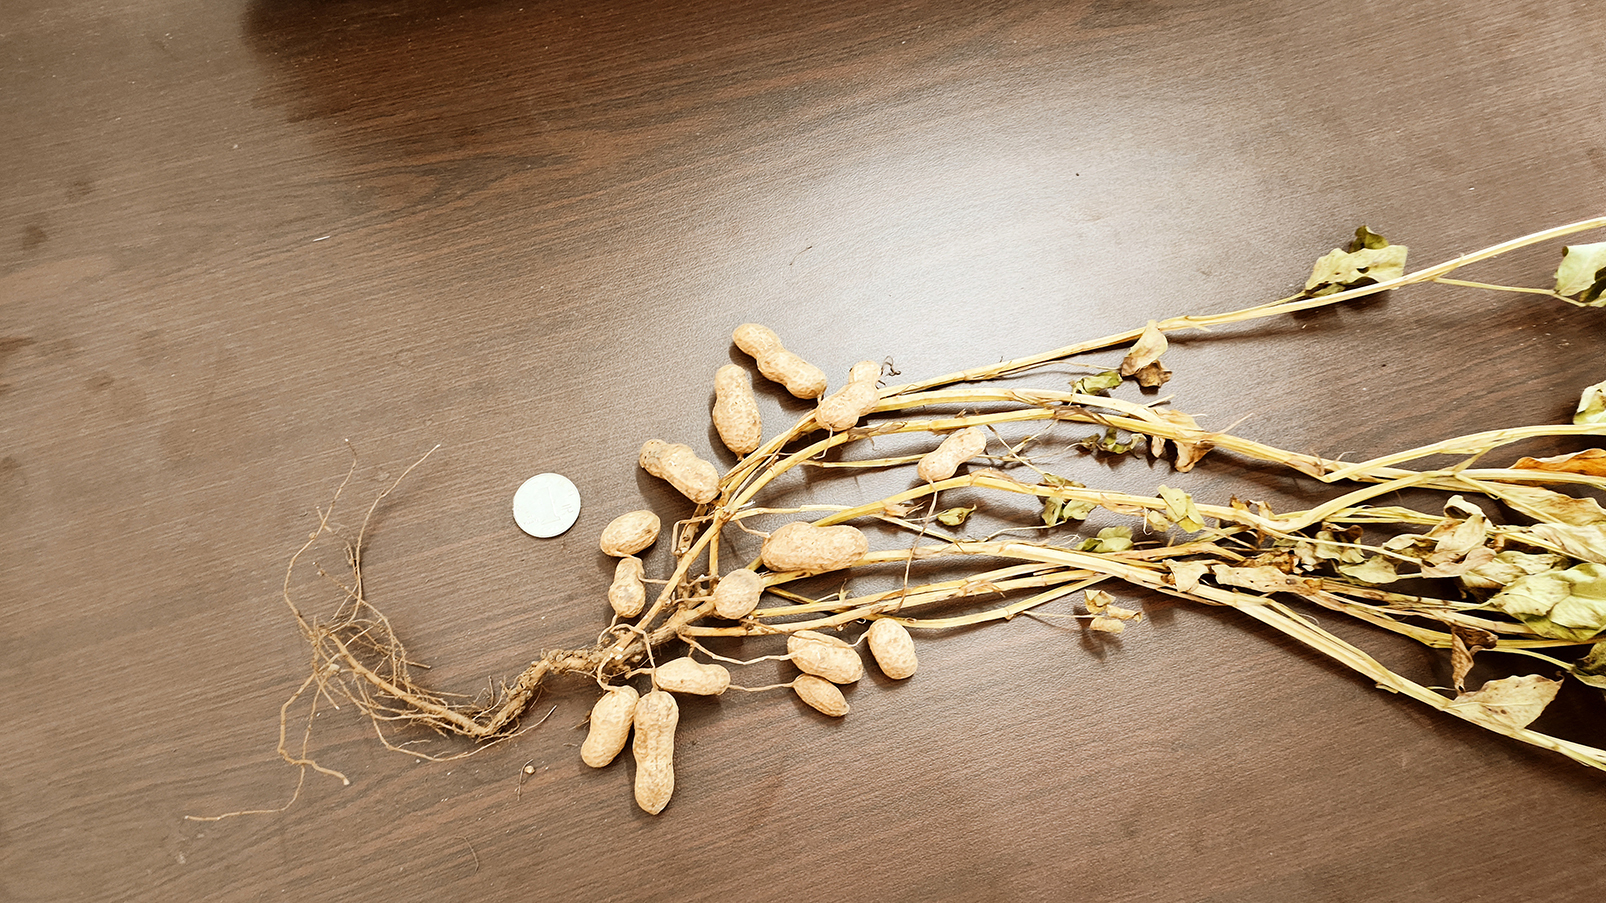h: (732, 322, 827, 398), (632, 690, 679, 816), (638, 438, 718, 504), (765, 523, 868, 574), (816, 359, 884, 432), (581, 686, 638, 768), (711, 364, 761, 455), (789, 628, 863, 684), (918, 426, 987, 484), (868, 617, 919, 682), (655, 656, 731, 696), (599, 509, 661, 556), (791, 676, 850, 720), (714, 569, 764, 620), (608, 555, 646, 617)
